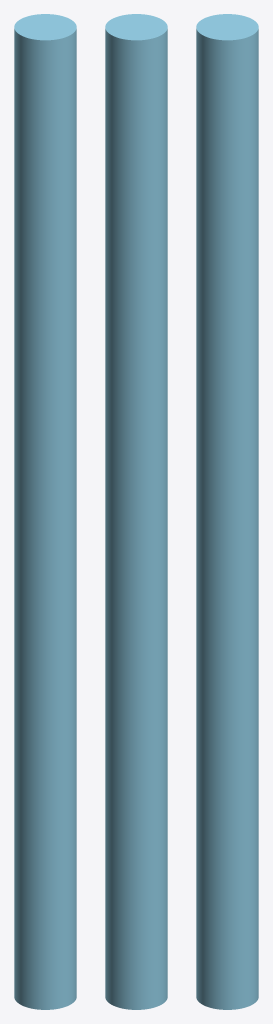
Rendered from water_body.glb.
The picture shows the model from 3 angles, left to right: view 1: azimuth 90°, elevation 25°; view 2: azimuth 210°, elevation 25°; view 3: azimuth 270°, elevation 25°; orthographic projection.
Parts seen in each view (by area): view 1: water_body; view 2: water_body; view 3: water_body.
Part boxes in pixels (box(x1,y1,x2,y2)): water_body: box(14, 14, 76, 1009); water_body: box(105, 14, 167, 1009); water_body: box(196, 14, 258, 1009).
Size of the model in its own units: 0.0584 by 1 by 0.0584.
